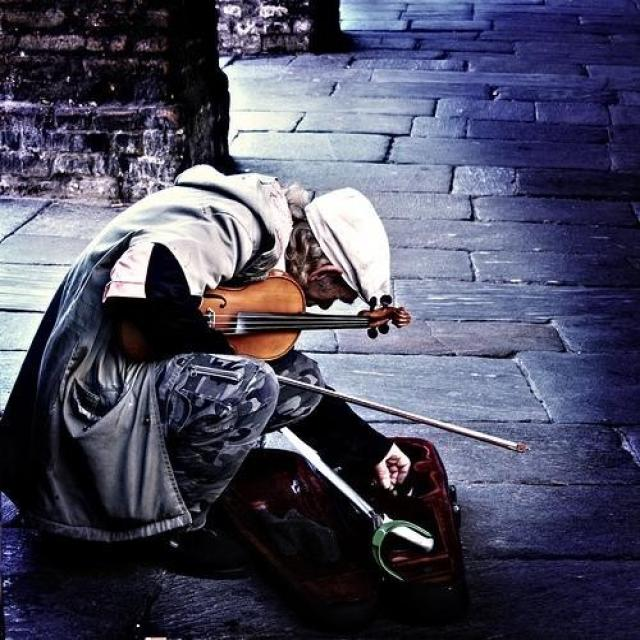violin: (116, 272, 411, 364)
